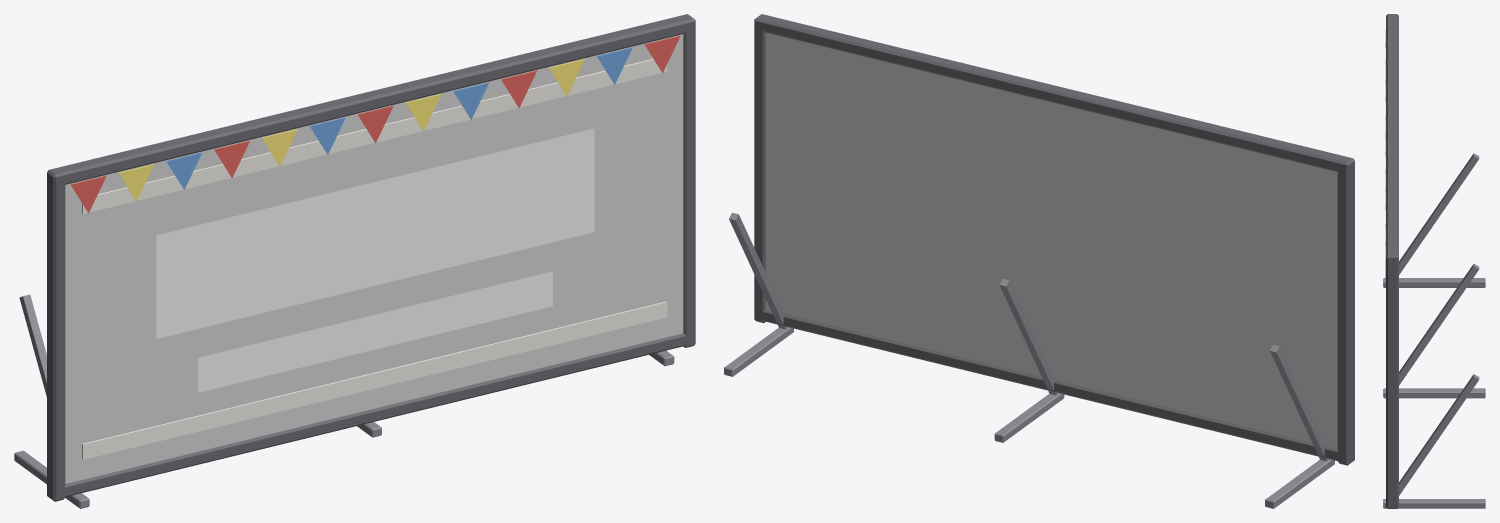
Rendered from prop_campaign_backdrop_01.glb.
3 views of the same model, side by side, from view 1: azimuth 30°, elevation 25°; view 2: azimuth 150°, elevation 25°; view 3: azimuth 270°, elevation 25° (orthographic). The views are drawn at different scales.
Visible parts, largest first — view 1: prop_campaign_backdrop_01_body; view 2: prop_campaign_backdrop_01_body; view 3: prop_campaign_backdrop_01_body.
Boxes of the visible parts, x1,y1,x2,y2 form: prop_campaign_backdrop_01_body: (14, 14, 695, 508); prop_campaign_backdrop_01_body: (724, 14, 1354, 508); prop_campaign_backdrop_01_body: (1383, 14, 1485, 508).
Bounding box in the file's own units: 6.16 × 3.1 × 1.1.
